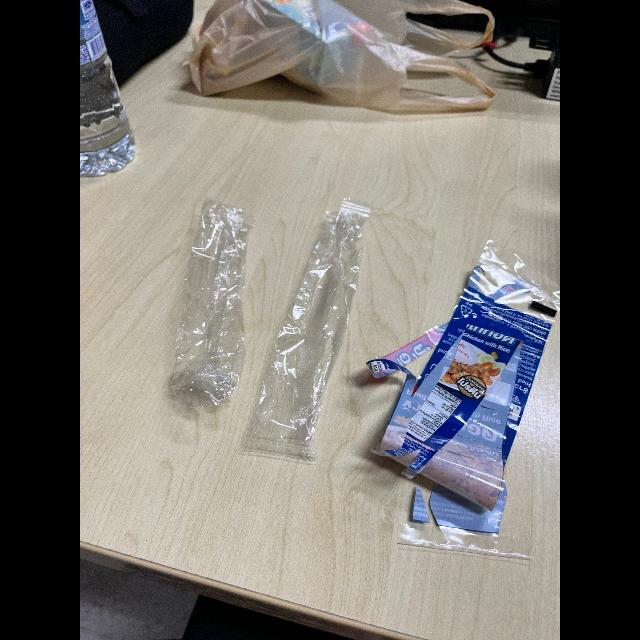scrap_plastic: (368, 240, 560, 550), (252, 200, 380, 458), (171, 183, 253, 417)
